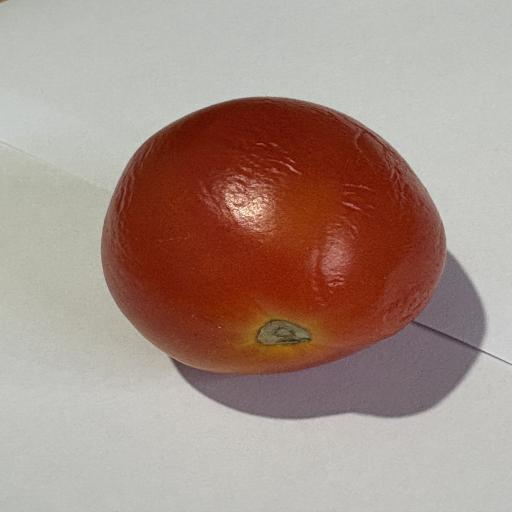spoiled: (101, 97, 446, 374)
